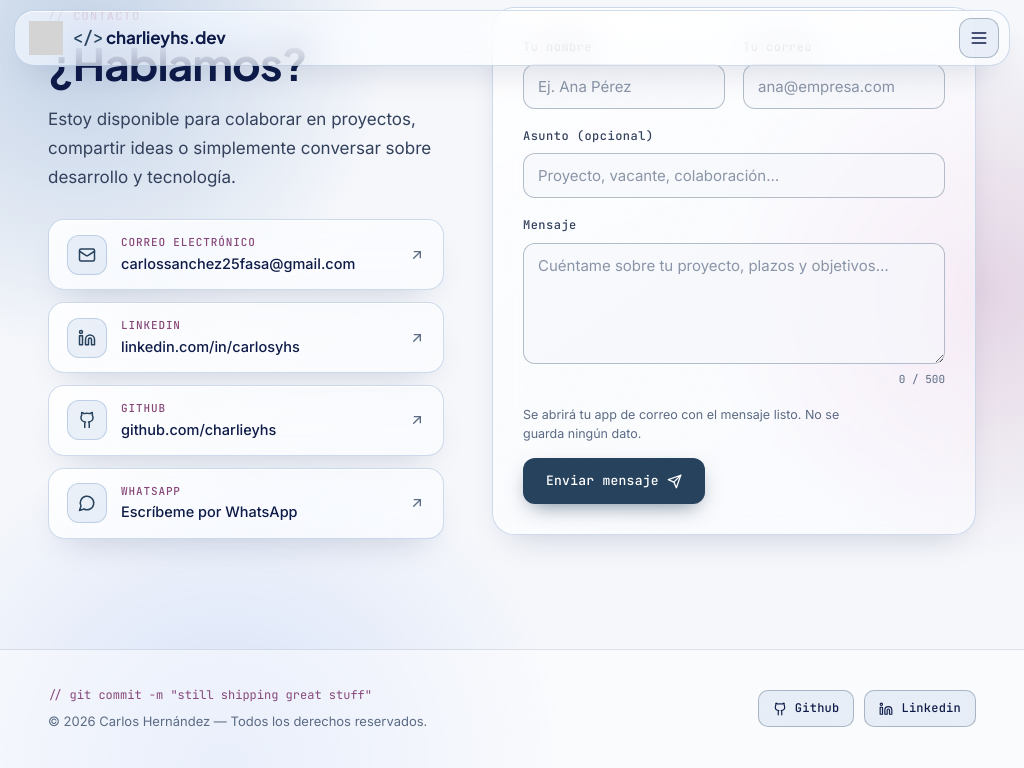
Test: App › formulario de contacto › muestra errores accesibles y no envía si hay campos inválidos
This screenshot has width=1024, height=768.
(page scrolled)
Click the button "Enviar mensaje".
click(614, 481)  # box [523, 458, 705, 504]
(page scrolled)
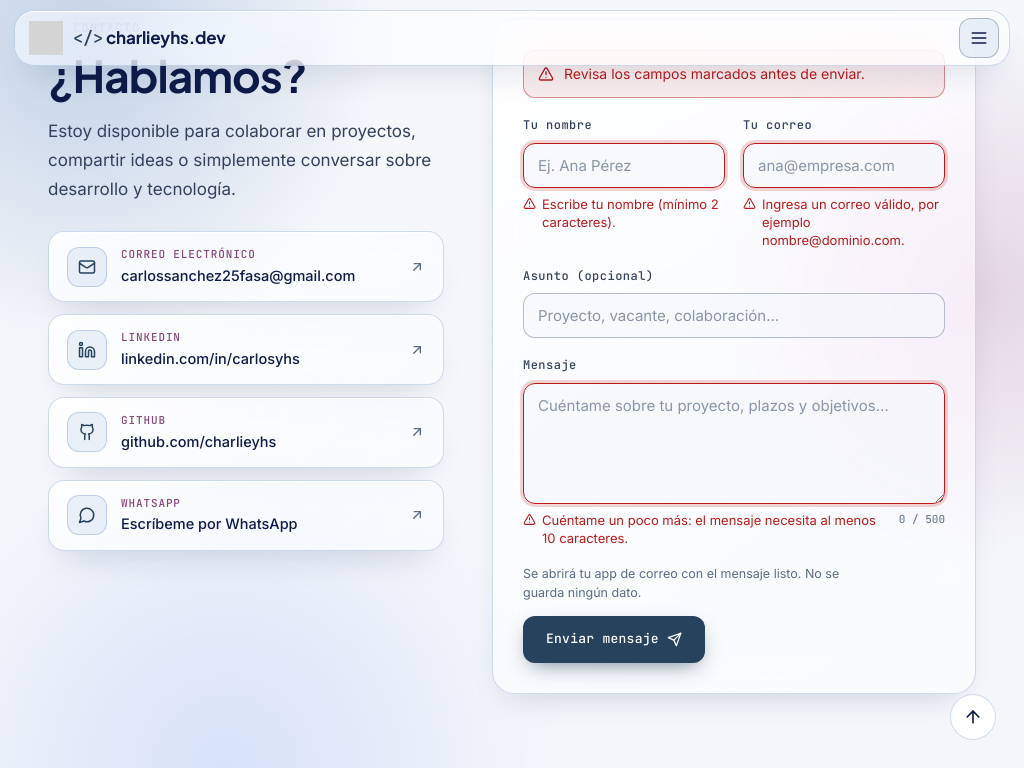
Now the message shows "Revisa los campos", box [564, 65, 865, 82]
